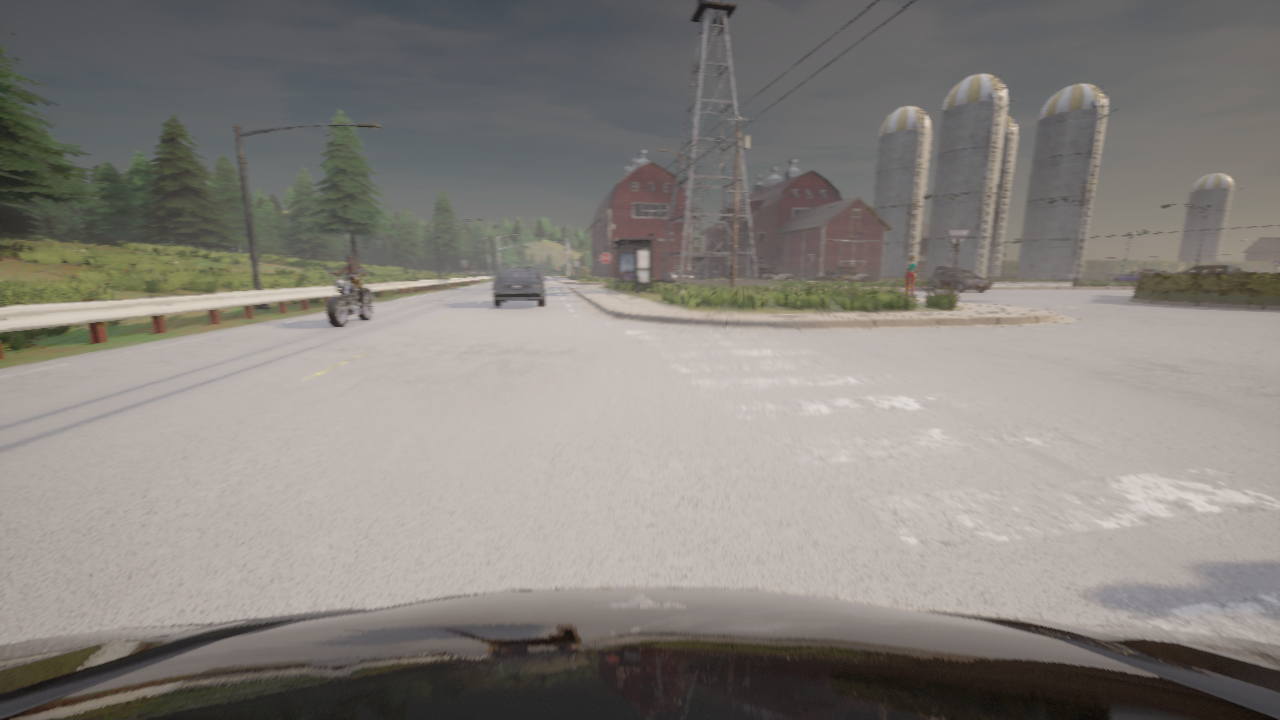cyclist: (0, 588, 1279, 719), (325, 269, 374, 327), (491, 267, 546, 306), (926, 270, 989, 291), (1113, 271, 1167, 282), (757, 267, 794, 282), (835, 267, 871, 282), (657, 269, 707, 278), (814, 271, 852, 282), (1181, 268, 1246, 274), (933, 267, 959, 277), (535, 268, 543, 279)
pedestrian: (904, 256, 916, 296)
